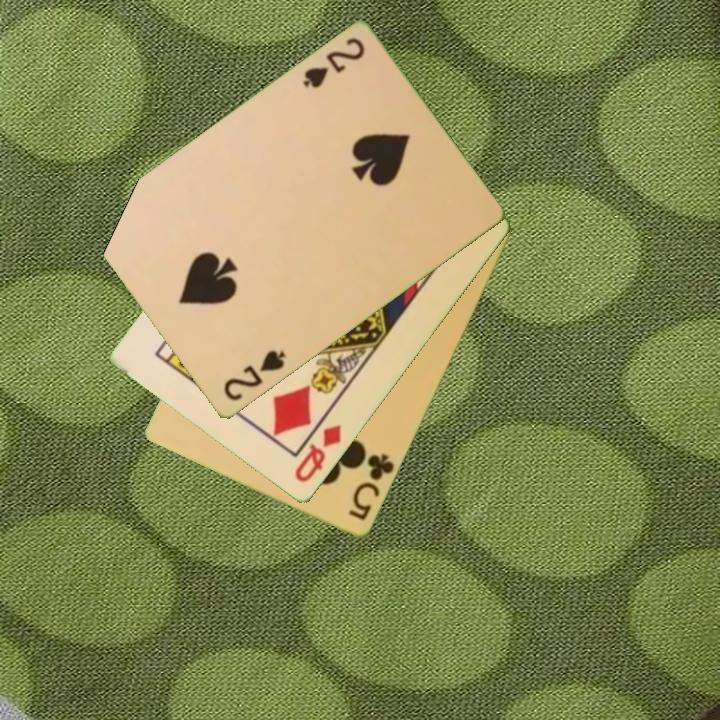2s: (298, 34, 368, 92), (220, 347, 289, 405)
5c: (345, 450, 398, 524)
Qd: (291, 421, 345, 486)
